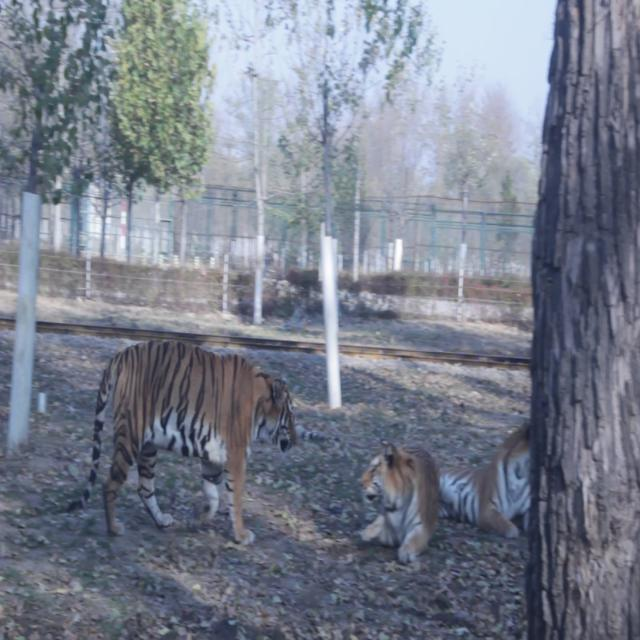Tiger: (60, 333, 303, 571), (439, 417, 542, 540), (354, 425, 441, 565)
